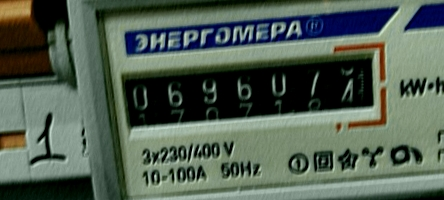0: (270, 68, 291, 100), (131, 83, 152, 112)
4: (340, 78, 358, 107)
6: (235, 73, 256, 104), (166, 79, 187, 108)
7: (306, 67, 325, 99)
9: (201, 77, 220, 107)
screen: (107, 36, 399, 148)
